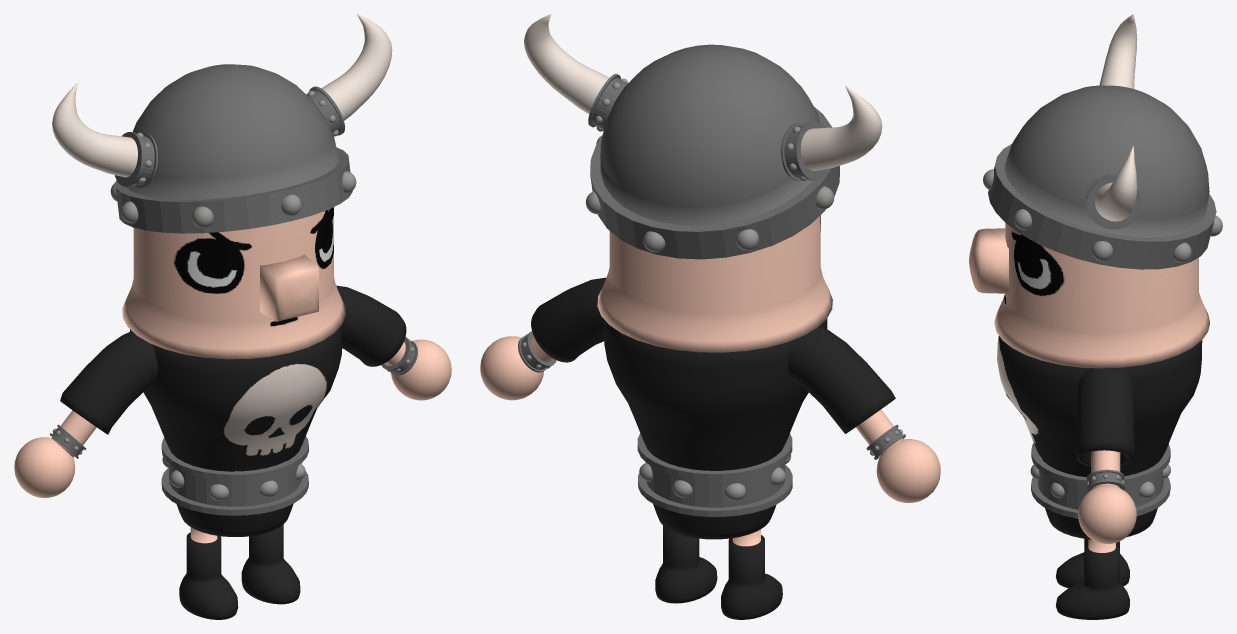
The model's file is Barbarian.fbx.
3 renders of one model, left to right at view 1: azimuth 30°, elevation 25°; view 2: azimuth 150°, elevation 25°; view 3: azimuth 270°, elevation 25°, orthographic. The views are drawn at different scales.
Parts seen in each view (by area): view 1: Cube; view 2: Cube; view 3: Cube.
Boxes of the visible parts, bbox=[...] form: Cube: bbox=[14, 14, 451, 619]; Cube: bbox=[480, 14, 940, 619]; Cube: bbox=[969, 14, 1222, 619].
Bounding box in the file's own units: 565 × 672 × 300.
Materials: 1 (1 with a texture image).
